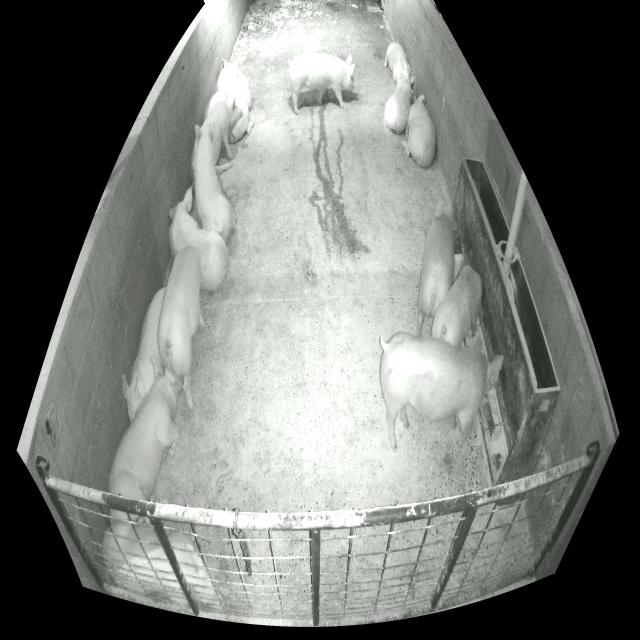pig: (380, 332, 503, 452), (108, 356, 183, 501), (103, 519, 215, 609), (158, 249, 205, 411), (169, 186, 228, 291), (122, 287, 166, 423), (192, 123, 237, 242), (415, 215, 455, 336), (431, 264, 482, 346), (289, 53, 356, 115), (201, 89, 242, 174), (215, 58, 252, 144), (397, 95, 436, 169), (384, 72, 414, 133), (384, 42, 411, 86), (204, 91, 225, 121)
